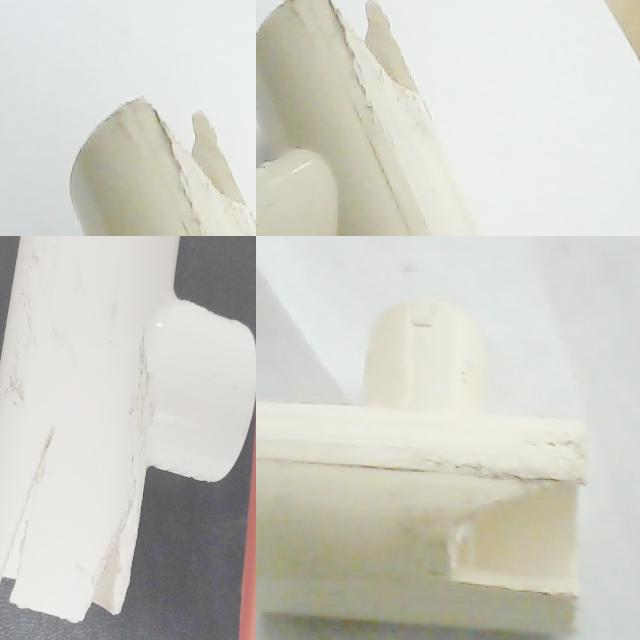Defective: (448, 486, 582, 597), (144, 96, 252, 208), (317, 0, 421, 98), (29, 459, 124, 537), (0, 572, 108, 640), (344, 0, 415, 94)
T Joint: (256, 299, 589, 640), (256, 0, 483, 236), (0, 294, 128, 640), (68, 98, 256, 236)
